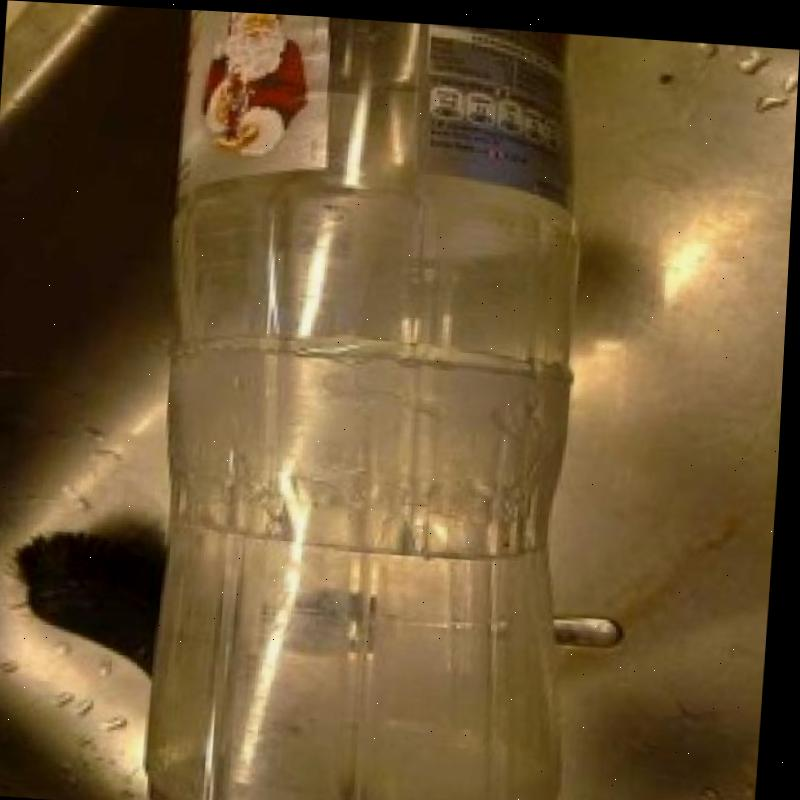botella: (143, 7, 609, 800)
